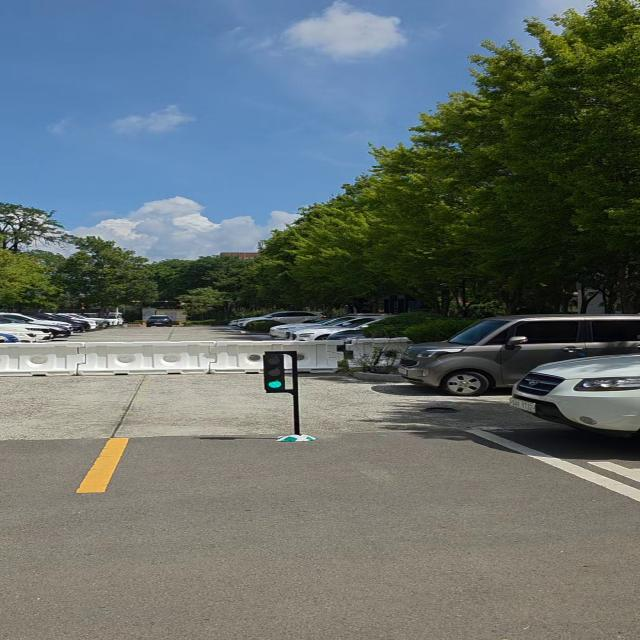green: (259, 354, 292, 394)
